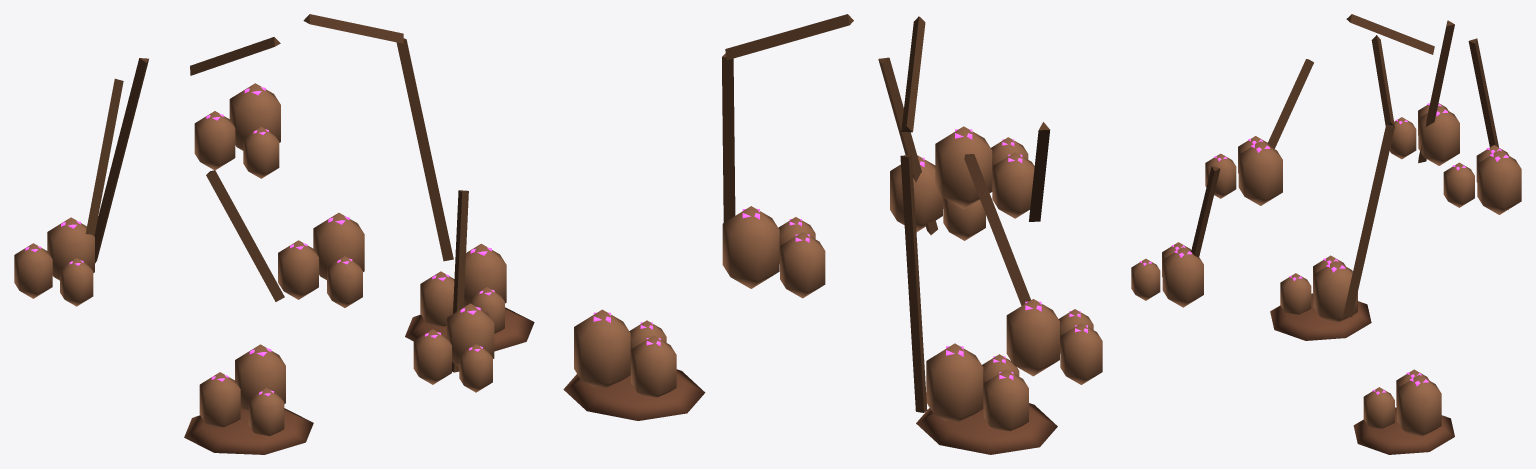
The model's file is overworld-settlement-eggs-east-asian-city.glb.
3 renders of one model, left to right at view 1: azimuth 30°, elevation 25°; view 2: azimuth 150°, elevation 25°; view 3: azimuth 270°, elevation 25°, orthographic. The views are drawn at different scales.
Parts seen in each view (by area): view 1: settlement_eggs; view 2: settlement_eggs; view 3: settlement_eggs.
Part boxes in pixels (<box>): settlement_eggs: <box>14,14,534,454</box>; settlement_eggs: <box>563,14,1102,454</box>; settlement_eggs: <box>1131,14,1521,454</box>.
Size of the model in its own units: 0.5576 by 0.4011 by 0.441.
